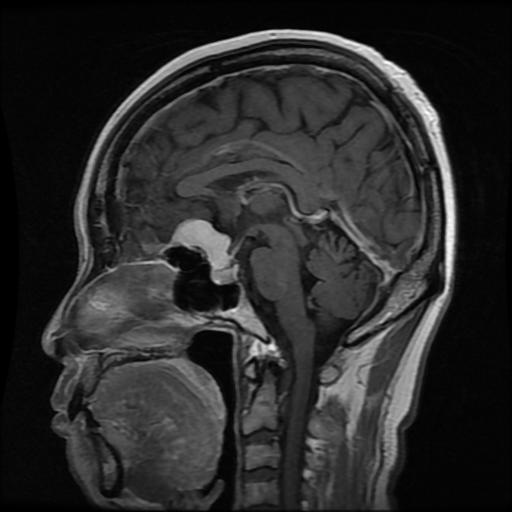Menigiomia_tumour: (171, 220, 231, 268)
